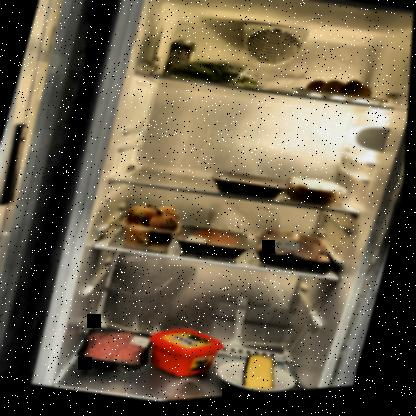beef: (173, 222, 259, 272)
butter: (143, 320, 232, 392)
cheese: (241, 353, 289, 398)
chicken: (251, 218, 349, 288), (209, 168, 293, 211)
eggs: (302, 74, 376, 114)
green_beans: (163, 50, 273, 101)
ground_beef: (78, 322, 161, 382)
heavy_cream: (161, 37, 200, 85)
onion: (121, 199, 187, 257)
